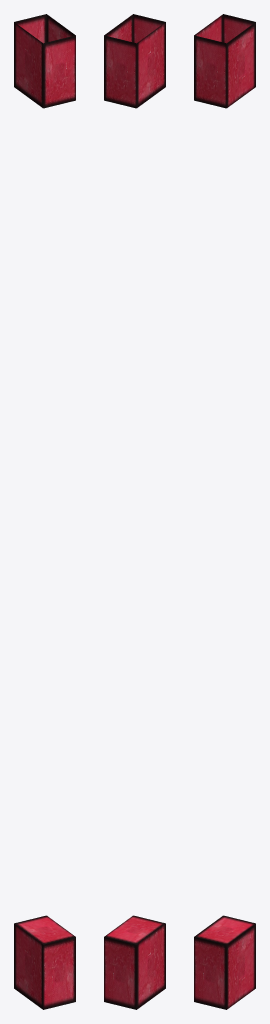
File: brakes_on.obj
The picture shows the model from 3 angles, left to right: view 1: azimuth 30°, elevation 25°; view 2: azimuth 150°, elevation 25°; view 3: azimuth 330°, elevation 25°; orthographic projection.
Visible parts, largest first — view 1: (null); view 2: (null); view 3: (null).
Part boxes in pixels (x1,y1,x2,y2): (null): (14,14,75,1009); (null): (104,14,165,1009); (null): (194,14,255,1009).
Bounding box in the file's own units: 0.07 × 1.99 × 0.1088.
1 material, 1 textured.
